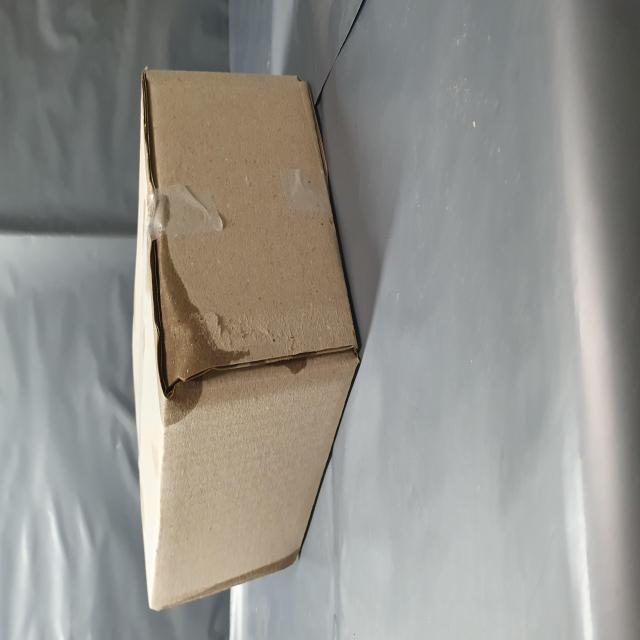wet: (134, 274, 238, 473)
